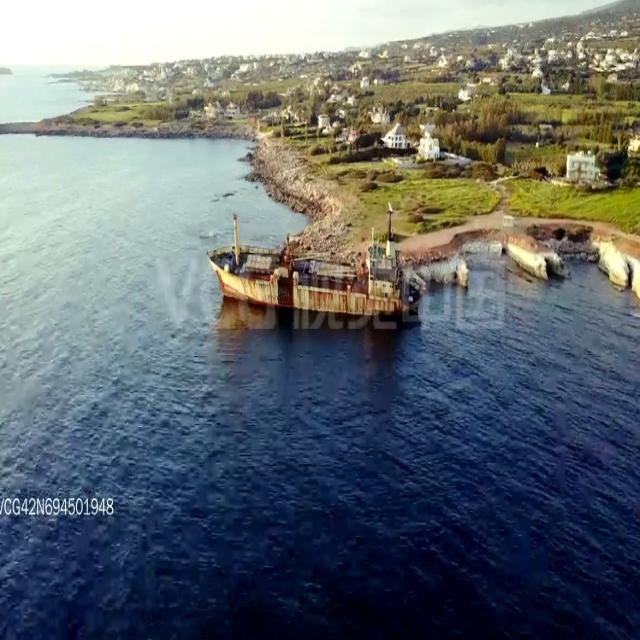cargoship: (198, 206, 428, 326)
